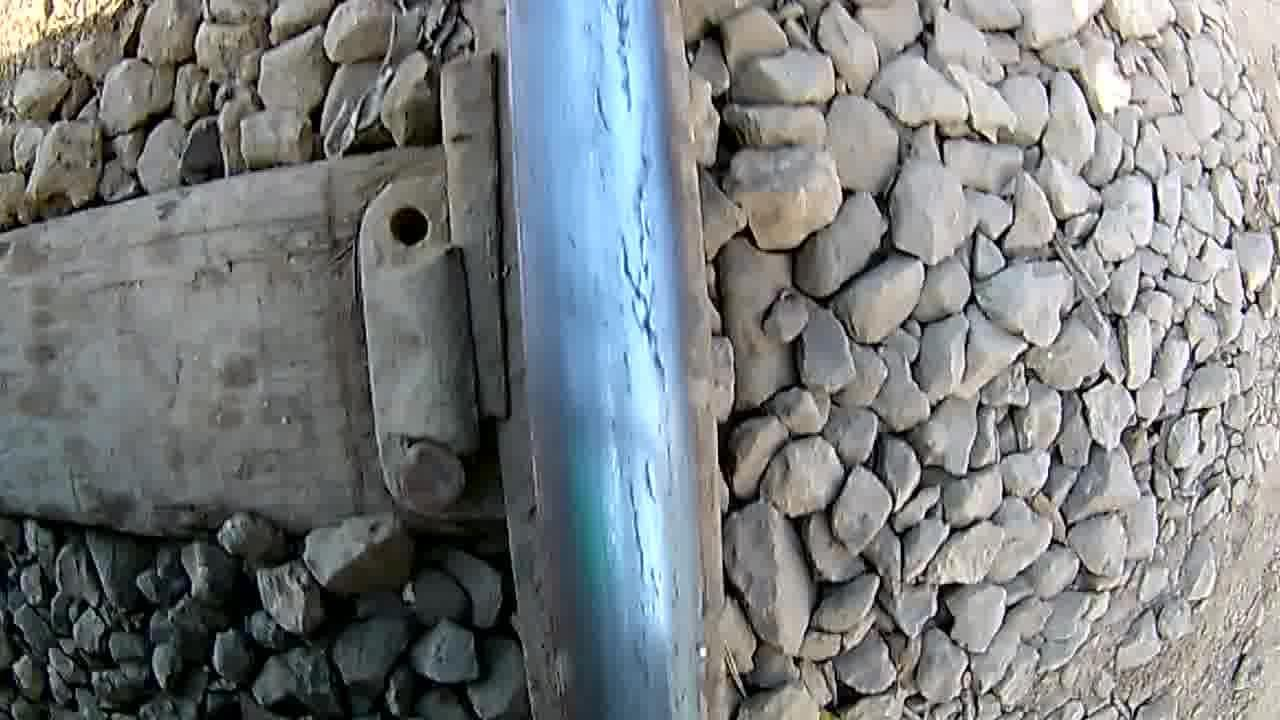crack: (578, 0, 676, 632)
